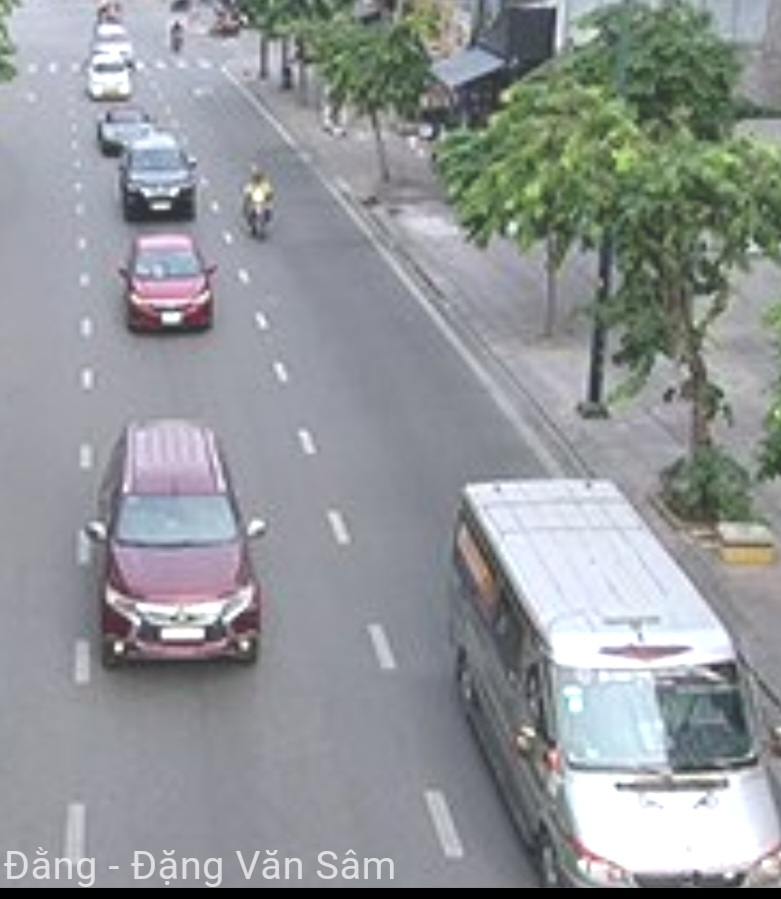car: (454, 483, 777, 886), (95, 419, 261, 677), (124, 237, 215, 333), (123, 135, 198, 223), (97, 103, 155, 150), (86, 56, 131, 99)
